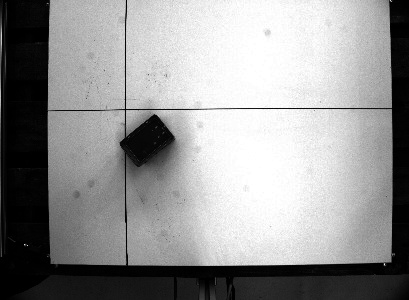kltxs: (117, 112, 177, 170)
